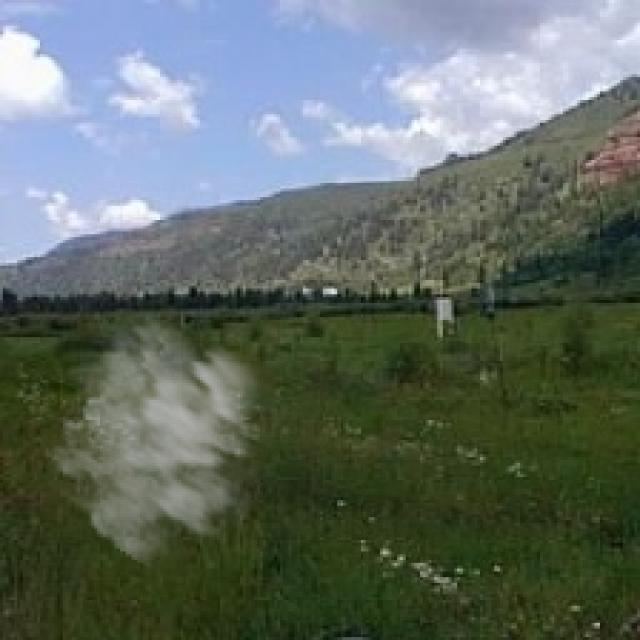Smoke: (43, 302, 303, 578)
